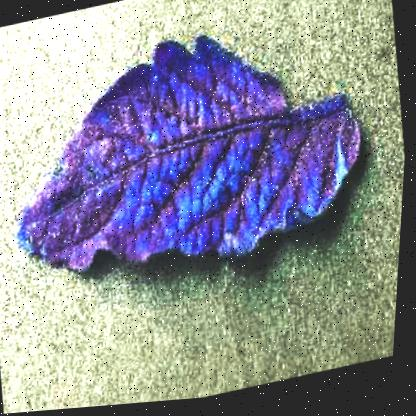Virus: (0, 0, 390, 323)
